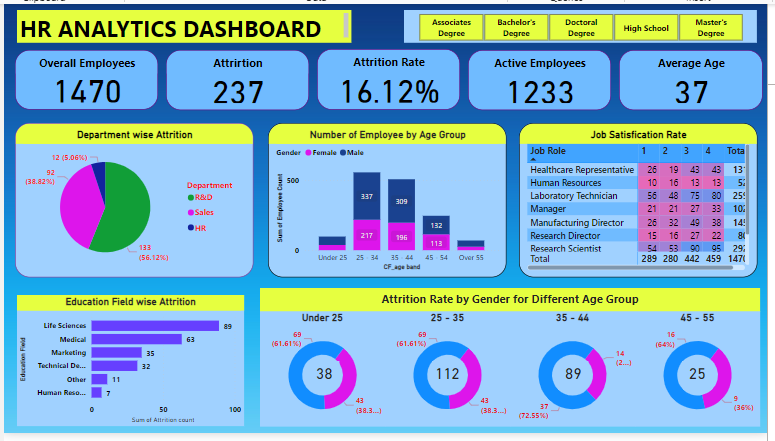

The page's visual inventory and layout, read from the dashboard file:
{"tool":"powerbi","page":{"name":"Page 1","canvas":[1280,720],"ordinal":0},"visuals":[{"type":"card","title":"Overall Employees","fields":{"Values":["Sum(HR data.Employee Count)"]},"box":[18.4,76.5,240,100],"z":0},{"type":"card","title":"Attrirtion","fields":{"Values":["Sum(HR data.Attrition count)"]},"box":[272.1,76.5,239.5,100.6],"z":1000},{"type":"card","title":"Attrition Rate","fields":{"Values":["HR data.Attrition Rate"]},"box":[525.1,75.5,239.9,102.3],"z":2000},{"type":"card","title":"Active  Employees","fields":{"Values":["HR data.Active Employees"]},"box":[778.1,76.5,239.5,100.6],"z":3000},{"type":"card","title":"Average Age","fields":{"Values":["Avg(HR data.Age)"]},"box":[1031.8,76.5,240.9,100.6],"z":4000},{"type":"pieChart","title":"Department wise Attrition","fields":{"Category":["HR data.Department"],"Y":["Sum(HR data.Attrition count)"]},"box":[18.4,199.8,399.7,259.4],"z":5000},{"type":"columnChart","title":"Number of Employee by Age Group","fields":{"Category":["HR data.CF_age band"],"Y":["Sum(HR data.Employee Count)"],"Series":["HR data.Gender"]},"box":[442.2,199.8,399.7,259.4],"z":6000},{"type":"pivotTable","title":"Job Satisfication Rate","fields":{"Rows":["HR data.Job Role"],"Columns":["HR data.Job Satisfaction"],"Values":["Sum(HR data.Employee Count)"]},"box":[864.6,199.8,399.7,259.4],"z":7000},{"type":"barChart","title":"Education Field wise Attrition","fields":{"Category":["HR data.Education Field"],"Y":["Sum(HR data.Attrition count)"]},"box":[21.3,489,381.3,219.7],"z":8000},{"type":"card","fields":{"Values":["Sum(HR data.Attrition count)"]},"box":[508.8,599.5,51,41.1],"z":9000},{"type":"slicer","fields":{"Values":["HR data.Education"]},"box":[671.8,9.9,592.4,55.3],"z":10000},{"type":"donutChart","title":"Under 25","fields":{"Category":["HR data.Gender"],"Y":["Sum(HR data.Attrition count)"],"Series":["HR data.CF_age band"]},"box":[429.4,514.5,210,194.2],"z":11000},{"type":"donutChart","title":"45 - 55","fields":{"Category":["HR data.Gender"],"Y":["Sum(HR data.Attrition count)"],"Series":["HR data.CF_age band"]},"box":[1058.7,514.5,210,194.2],"z":12000},{"type":"donutChart","title":"35 - 44","fields":{"Category":["HR data.Gender"],"Y":["Sum(HR data.Attrition count)"],"Series":["HR data.CF_age band"]},"box":[849,514.5,209.8,194.2],"z":13000},{"type":"donutChart","title":"25 - 35","fields":{"Category":["HR data.Gender"],"Y":["Sum(HR data.Attrition count)"],"Series":["HR data.CF_age band"]},"box":[639.2,514.5,209.8,194.2],"z":14000},{"type":"textbox","box":[429.5,476.4,838.8,38.6],"z":15000},{"type":"textbox","box":[21.3,9.9,561.3,55.3],"z":16000},{"type":"card","fields":{"Values":["Sum(HR data.Attrition count)"]},"box":[929.8,599.5,51,41.1],"z":17000},{"type":"card","fields":{"Values":["Sum(HR data.Attrition count)"]},"box":[1138.1,599.5,51,41.1],"z":18000},{"type":"card","fields":{"Values":["Sum(HR data.Attrition count)"]},"box":[718.6,599.5,51,41.1],"z":19000},{"type":"card","fields":{"Values":["Sum(HR data.Attrition count)"]},"box":[511.7,599.5,51,41.1],"z":20000}]}

Visuals, with their boxes in screenshot pixels (x1, y1, x2, y2), scaled from the page's 1280x720 canvas onto the 775x441 screenshot:
"Overall Employees" card: [x1=11, y1=47, x2=156, y2=108]
"Attrirtion" card: [x1=165, y1=47, x2=310, y2=108]
"Attrition Rate" card: [x1=318, y1=46, x2=463, y2=109]
"Active  Employees" card: [x1=471, y1=47, x2=616, y2=108]
"Average Age" card: [x1=625, y1=47, x2=771, y2=108]
"Department wise Attrition" pieChart: [x1=11, y1=122, x2=253, y2=281]
"Number of Employee by Age Group" columnChart: [x1=268, y1=122, x2=510, y2=281]
"Job Satisfication Rate" pivotTable: [x1=523, y1=122, x2=765, y2=281]
"Education Field wise Attrition" barChart: [x1=13, y1=300, x2=244, y2=434]
card - Sum(HR data.Attrition count): [x1=308, y1=367, x2=339, y2=392]
slicer - HR data.Education: [x1=407, y1=6, x2=765, y2=40]
"Under 25" donutChart: [x1=260, y1=315, x2=387, y2=434]
"45 - 55" donutChart: [x1=641, y1=315, x2=768, y2=434]
"35 - 44" donutChart: [x1=514, y1=315, x2=641, y2=434]
"25 - 35" donutChart: [x1=387, y1=315, x2=514, y2=434]
textbox: [x1=260, y1=292, x2=768, y2=315]
textbox: [x1=13, y1=6, x2=353, y2=40]
card - Sum(HR data.Attrition count): [x1=563, y1=367, x2=594, y2=392]
card - Sum(HR data.Attrition count): [x1=689, y1=367, x2=720, y2=392]
card - Sum(HR data.Attrition count): [x1=435, y1=367, x2=466, y2=392]
card - Sum(HR data.Attrition count): [x1=310, y1=367, x2=341, y2=392]
